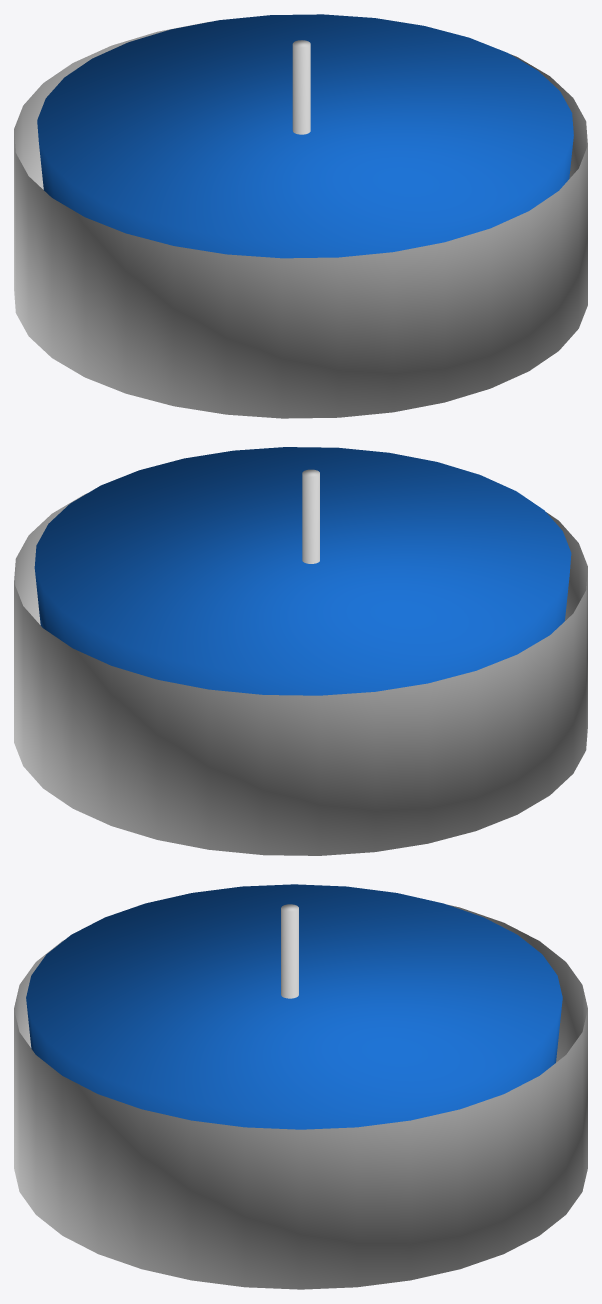
Rendered from candle.fbx.
3 renders of one model, top to bottom at view 1: azimuth 30°, elevation 25°; view 2: azimuth 150°, elevation 25°; view 3: azimuth 270°, elevation 25°, orthographic.
Parts seen in each view (by area): view 1: Cylinder_002, Cylinder; view 2: Cylinder_002, Cylinder; view 3: Cylinder_002, Cylinder.
Boxes of the visible parts, left/top/right/bottom form: Cylinder_002: left=37, top=14, right=573, bottom=258; Cylinder: left=14, top=21, right=587, bottom=418; Cylinder_002: left=34, top=447, right=571, bottom=695; Cylinder: left=14, top=493, right=587, bottom=855; Cylinder_002: left=26, top=884, right=562, bottom=1129; Cylinder: left=14, top=905, right=587, bottom=1289.
Size of the model in its own units: 2 by 0.9918 by 2.
